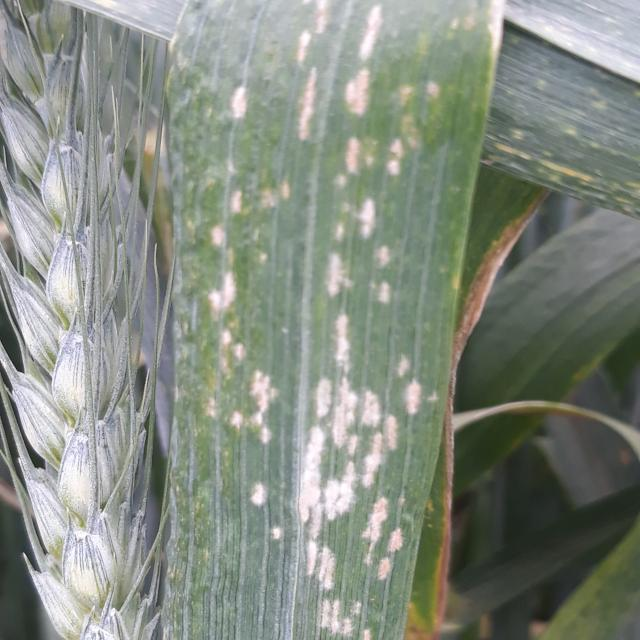powder_mildew: (130, 0, 509, 640), (4, 8, 161, 640), (496, 0, 635, 216)
